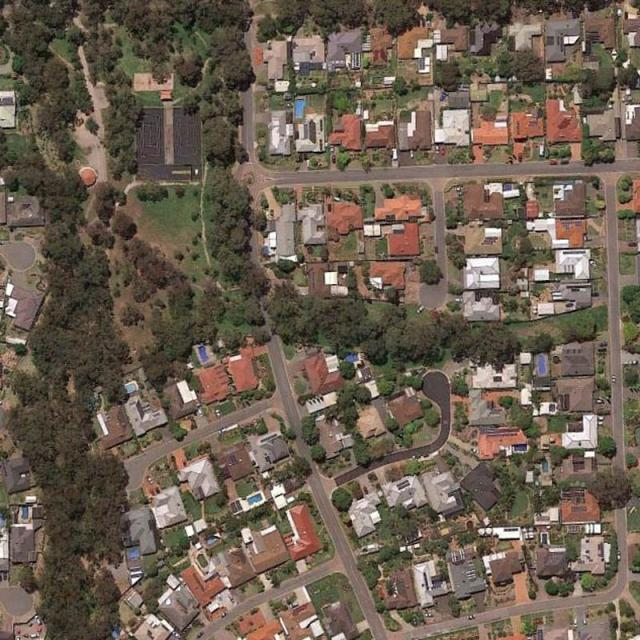vehicle: (417, 306, 425, 314), (214, 410, 221, 418), (438, 145, 444, 154), (466, 614, 475, 620), (616, 550, 621, 560), (173, 632, 181, 638), (549, 160, 558, 165), (332, 154, 337, 163), (559, 161, 570, 165), (330, 143, 334, 154), (221, 612, 228, 618), (434, 145, 438, 154), (574, 618, 578, 627), (612, 375, 616, 383), (629, 360, 637, 364), (424, 613, 432, 617), (410, 150, 414, 158), (455, 298, 462, 302)
